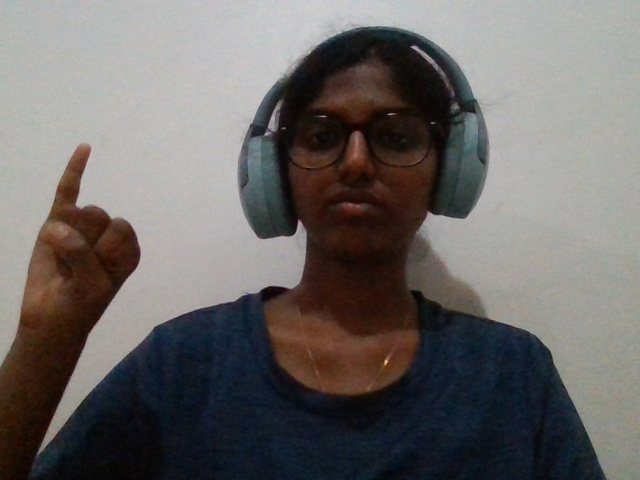I: (10, 137, 158, 396)
